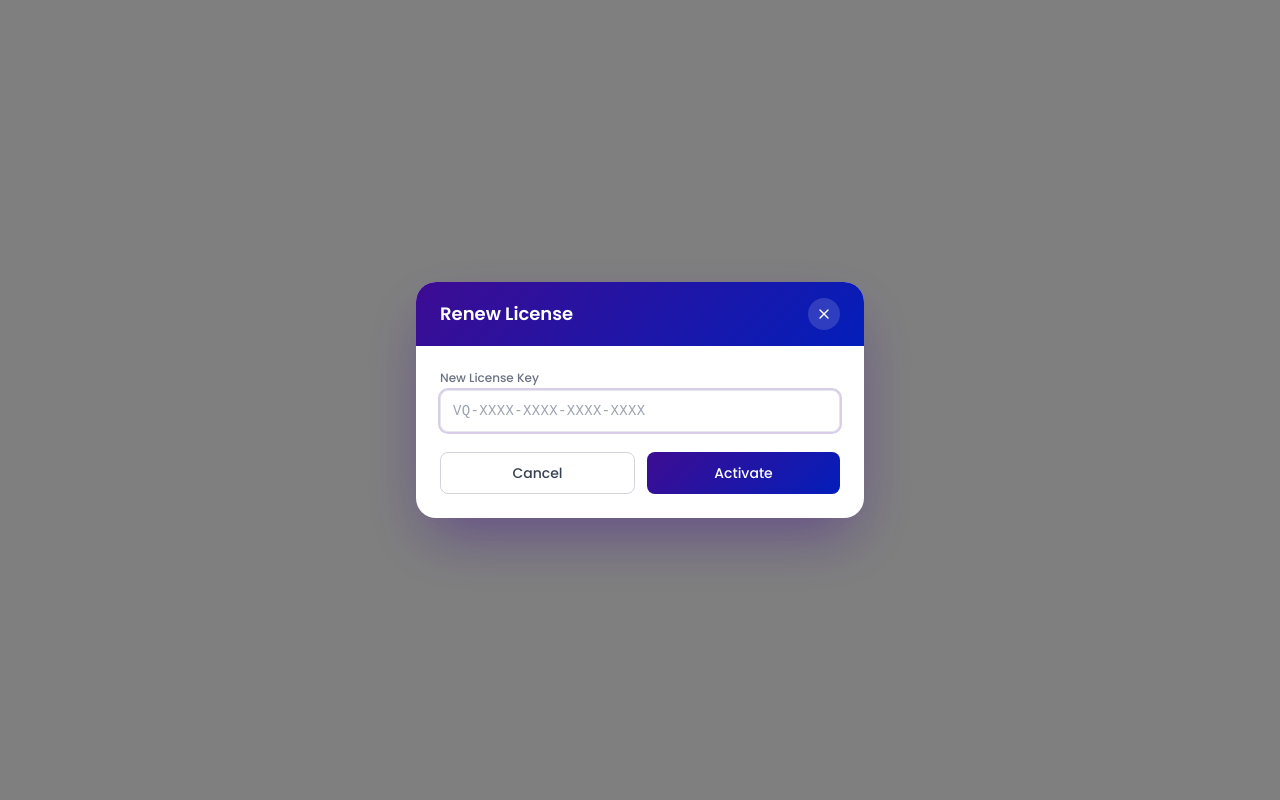
Test: RenewLicenseModal › shows a validation error and does not submit when the key is empty
Click the button "Activate".
click(744, 473)  # box [647,452,840,494]
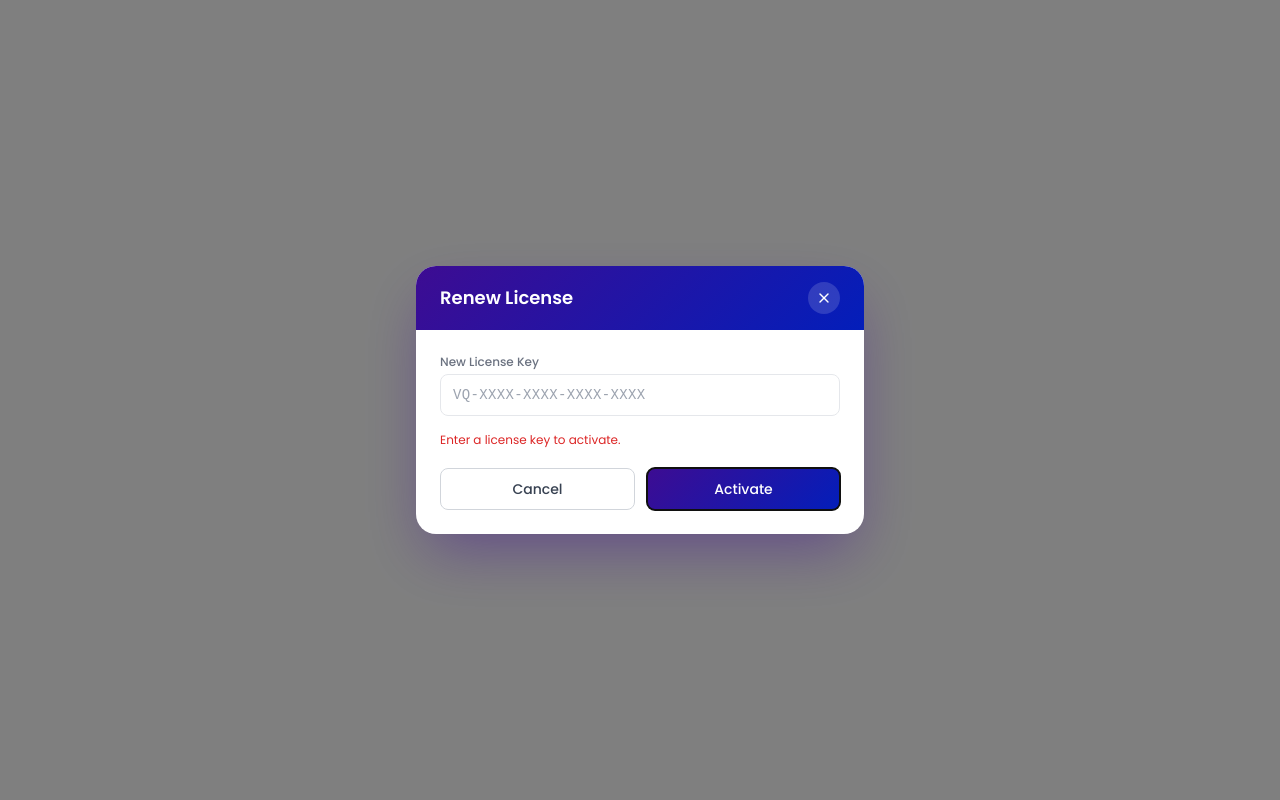
Check: the text "Enter a license key to activate." is shown, box [440,431,621,448]
